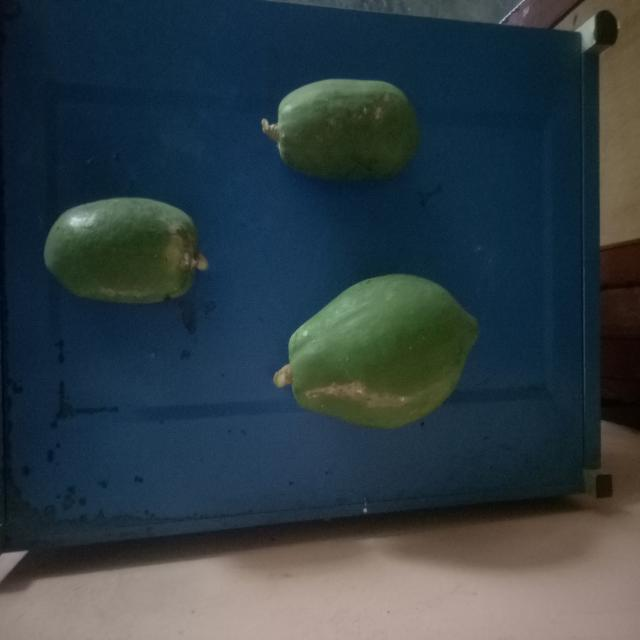Pepaya unrippen: (282, 279, 491, 434), (45, 195, 215, 315), (257, 80, 428, 186)
